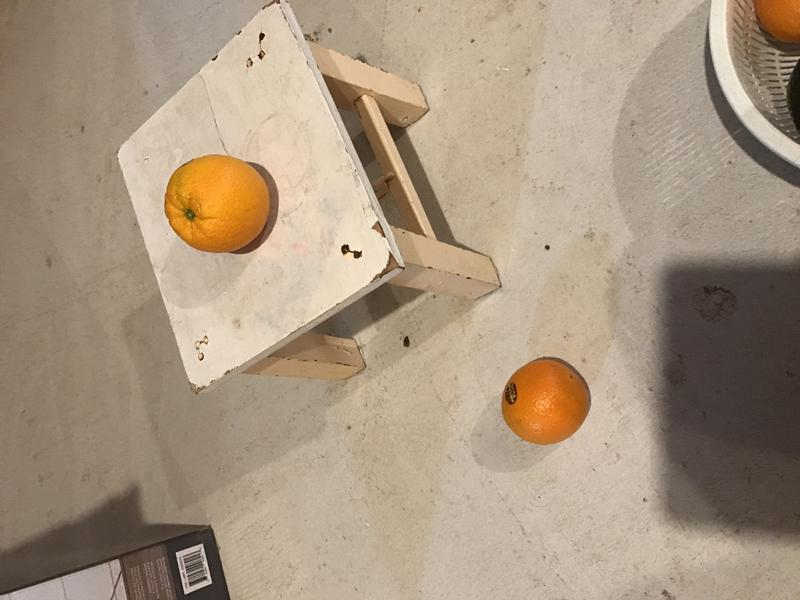orange: (162, 152, 281, 256), (498, 352, 593, 450)
